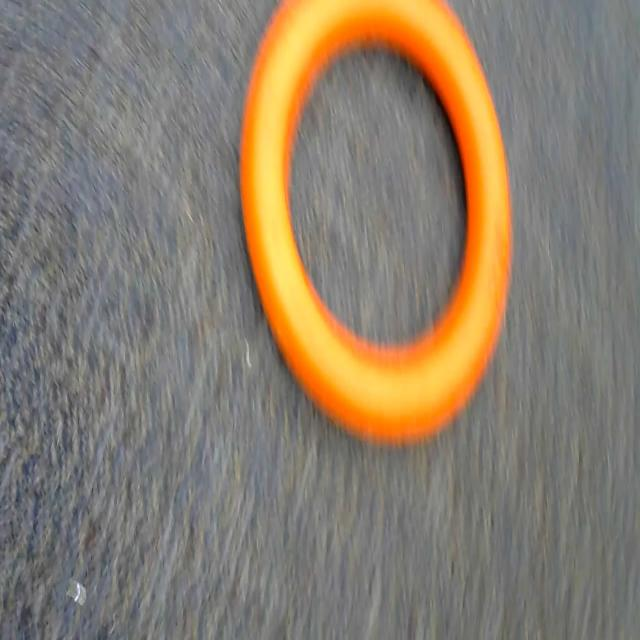note: (239, 0, 514, 457)
